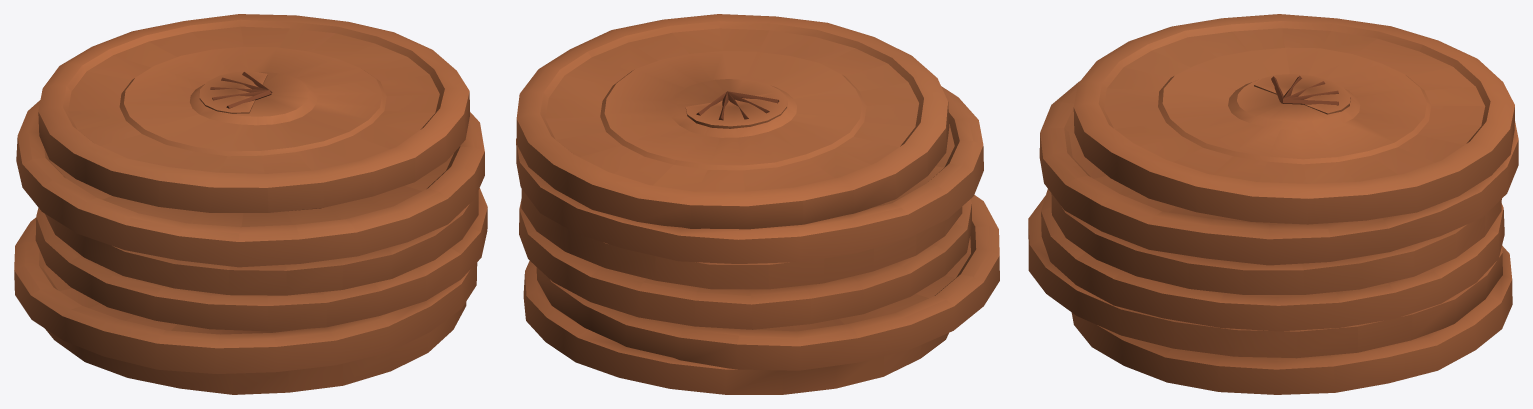
The model's file is grotto_coin_stack.glb.
3 renders of one model, left to right at view 1: azimuth 30°, elevation 25°; view 2: azimuth 150°, elevation 25°; view 3: azimuth 270°, elevation 25°, orthographic. The views are drawn at different scales.
Parts seen in each view (by area): view 1: grotto_coin_stack; view 2: grotto_coin_stack; view 3: grotto_coin_stack.
Boxes of the visible parts, x1,y1,x2,y2 form: grotto_coin_stack: (14,14,487,394); grotto_coin_stack: (516,14,999,394); grotto_coin_stack: (1028,14,1518,394).
Size of the model in its own units: 5.53 by 2.75 by 5.52.
